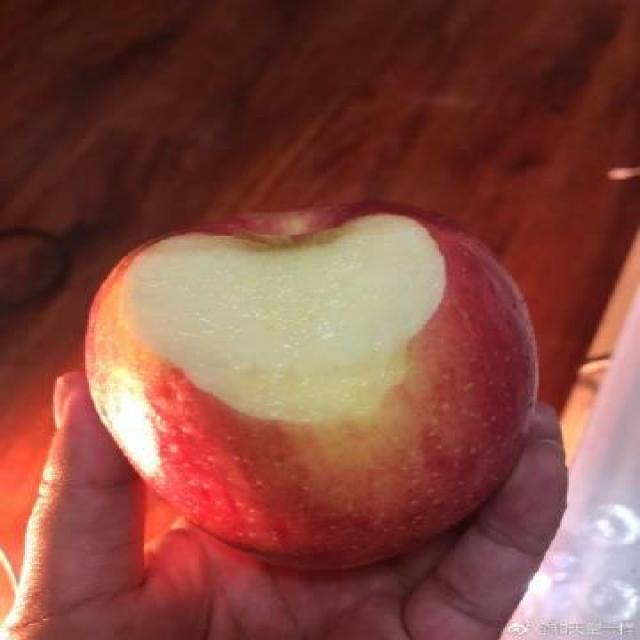Rotten: (76, 187, 554, 568)
